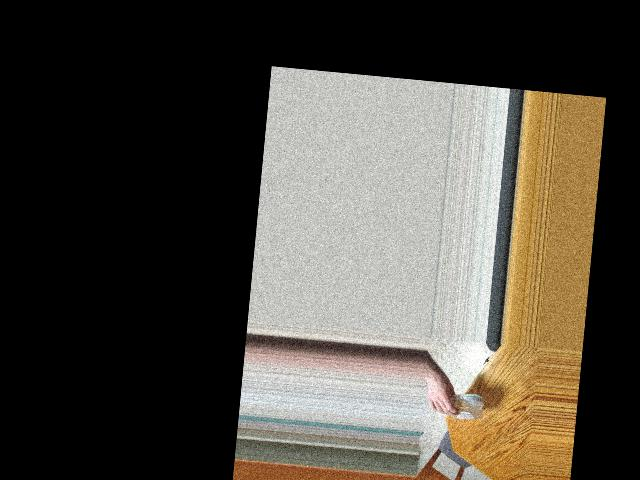cheese: (443, 374, 486, 430)
